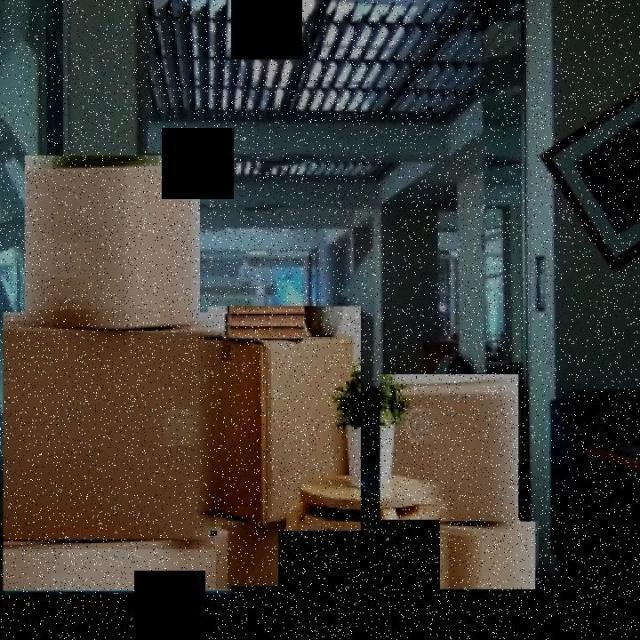box: (0, 310, 215, 550), (206, 303, 363, 535), (22, 152, 204, 342), (379, 374, 521, 524), (0, 535, 236, 594), (438, 521, 539, 591), (216, 506, 281, 588)
